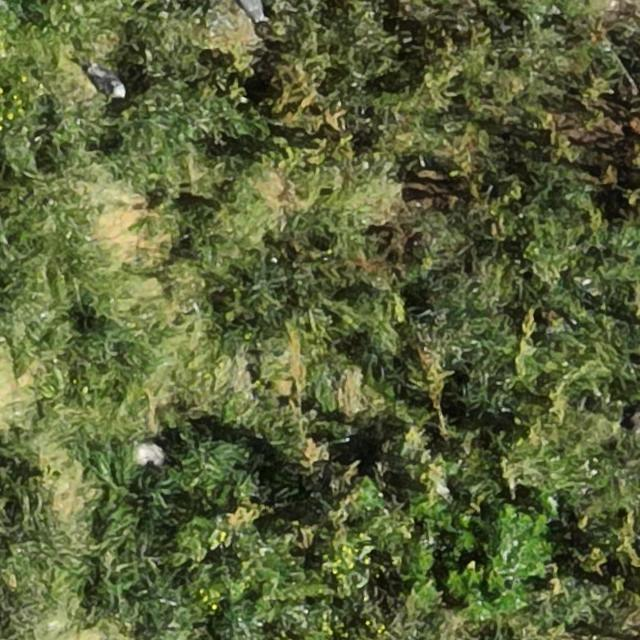umineko: (91, 68, 123, 96), (237, 1, 263, 22)
